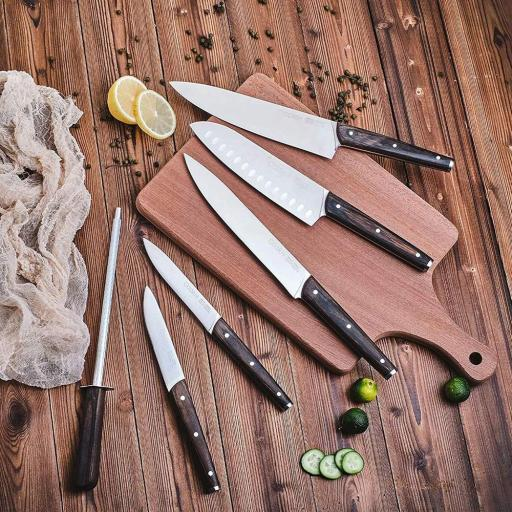knife: (179, 117, 439, 296)
